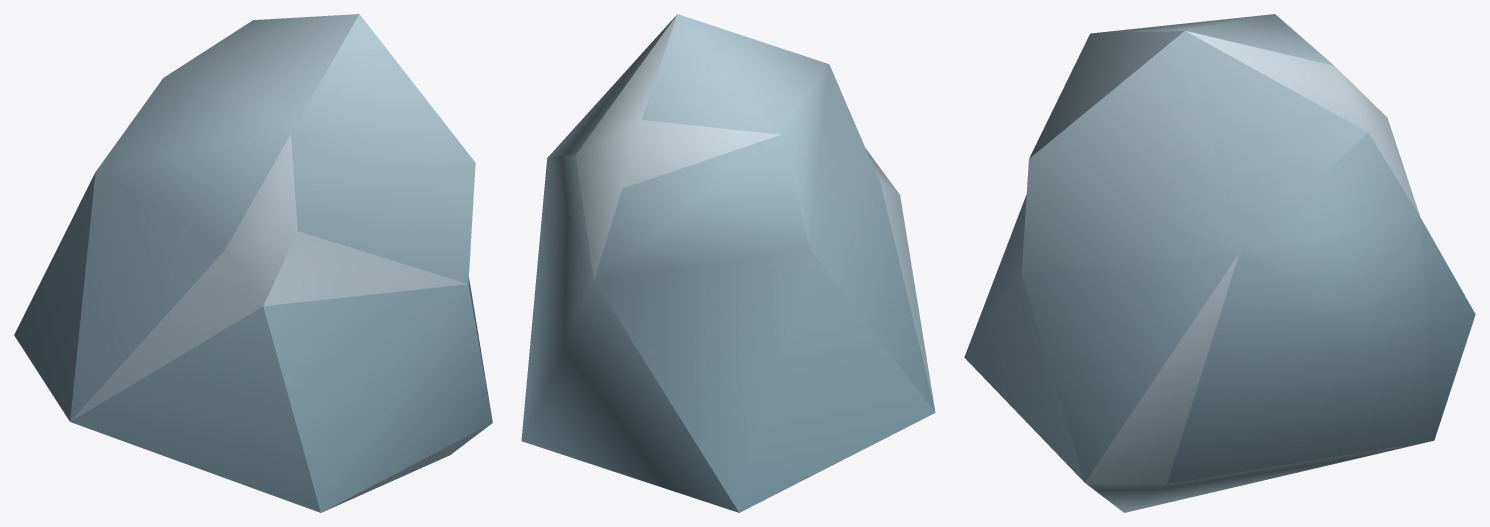
Rendered from Silver_Nugget_Medium.glb.
3 views of the same model, side by side, from view 1: azimuth 30°, elevation 25°; view 2: azimuth 150°, elevation 25°; view 3: azimuth 270°, elevation 25° (orthographic). The views are drawn at different scales.
Visible parts, largest first — view 1: Silver_Nugget_Medium; view 2: Silver_Nugget_Medium; view 3: Silver_Nugget_Medium.
Boxes of the visible parts, x1,y1,x2,y2 form: Silver_Nugget_Medium: [14, 14, 492, 512]; Silver_Nugget_Medium: [521, 14, 935, 512]; Silver_Nugget_Medium: [964, 14, 1475, 512].
Size of the model in its own units: 0.2589 by 0.2781 by 0.2819.
Materials: 1 (1 with a texture image).
